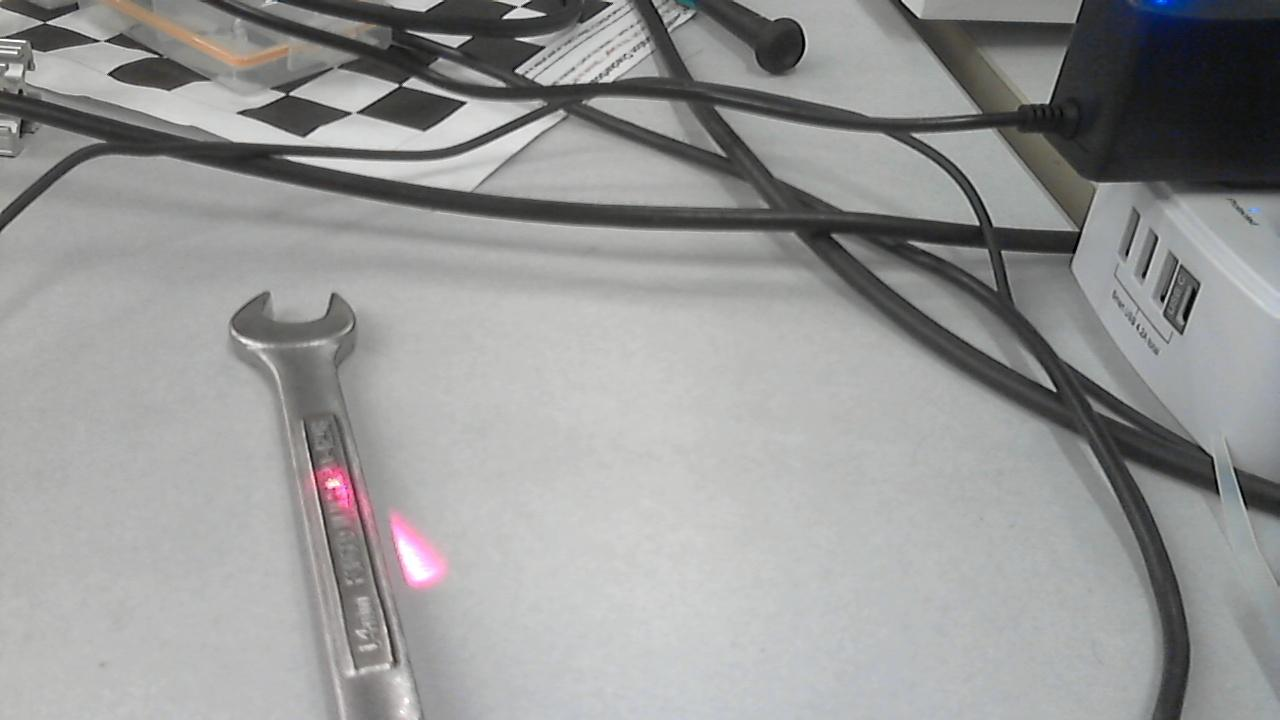Object combination wrench - Material metal- Pdfname faefasdffdaea: (299, 453, 383, 543)
